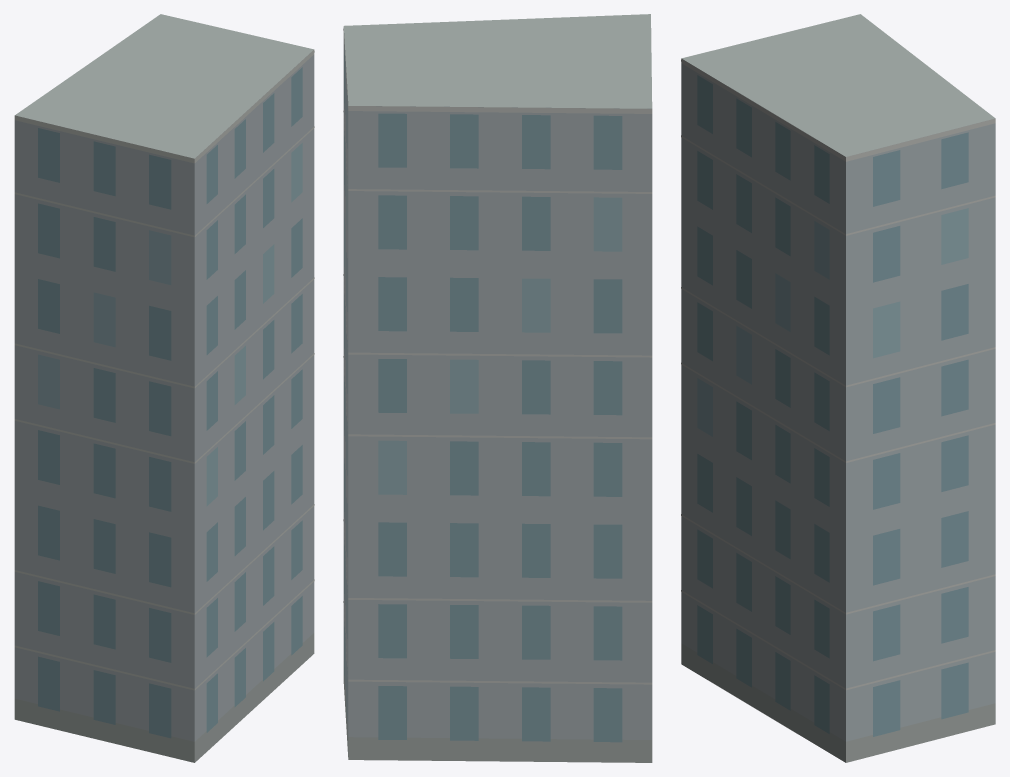
The model's file is survey-upis-32948268.glb.
3 views of the same model, side by side, from view 1: azimuth 30°, elevation 25°; view 2: azimuth 150°, elevation 25°; view 3: azimuth 270°, elevation 25° (orthographic). The views are drawn at different scales.
Parts seen in each view (by area): view 1: survey-upis-32948268.tmp; view 2: survey-upis-32948268.tmp; view 3: survey-upis-32948268.tmp.
Boxes of the visible parts, x1,y1,x2,y2 form: survey-upis-32948268.tmp: (14, 14, 314, 762); survey-upis-32948268.tmp: (343, 14, 652, 762); survey-upis-32948268.tmp: (681, 14, 995, 762).
Bounding box in the file's own units: 15.51 × 30.6 × 14.41.
